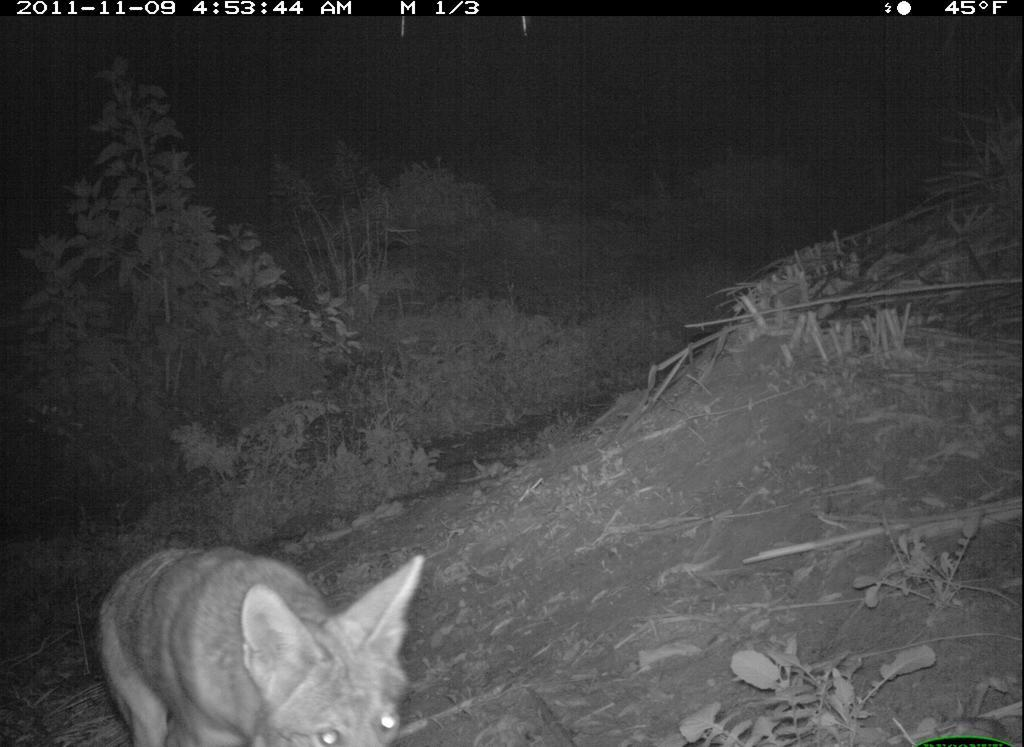coyote: (94, 539, 432, 747)
